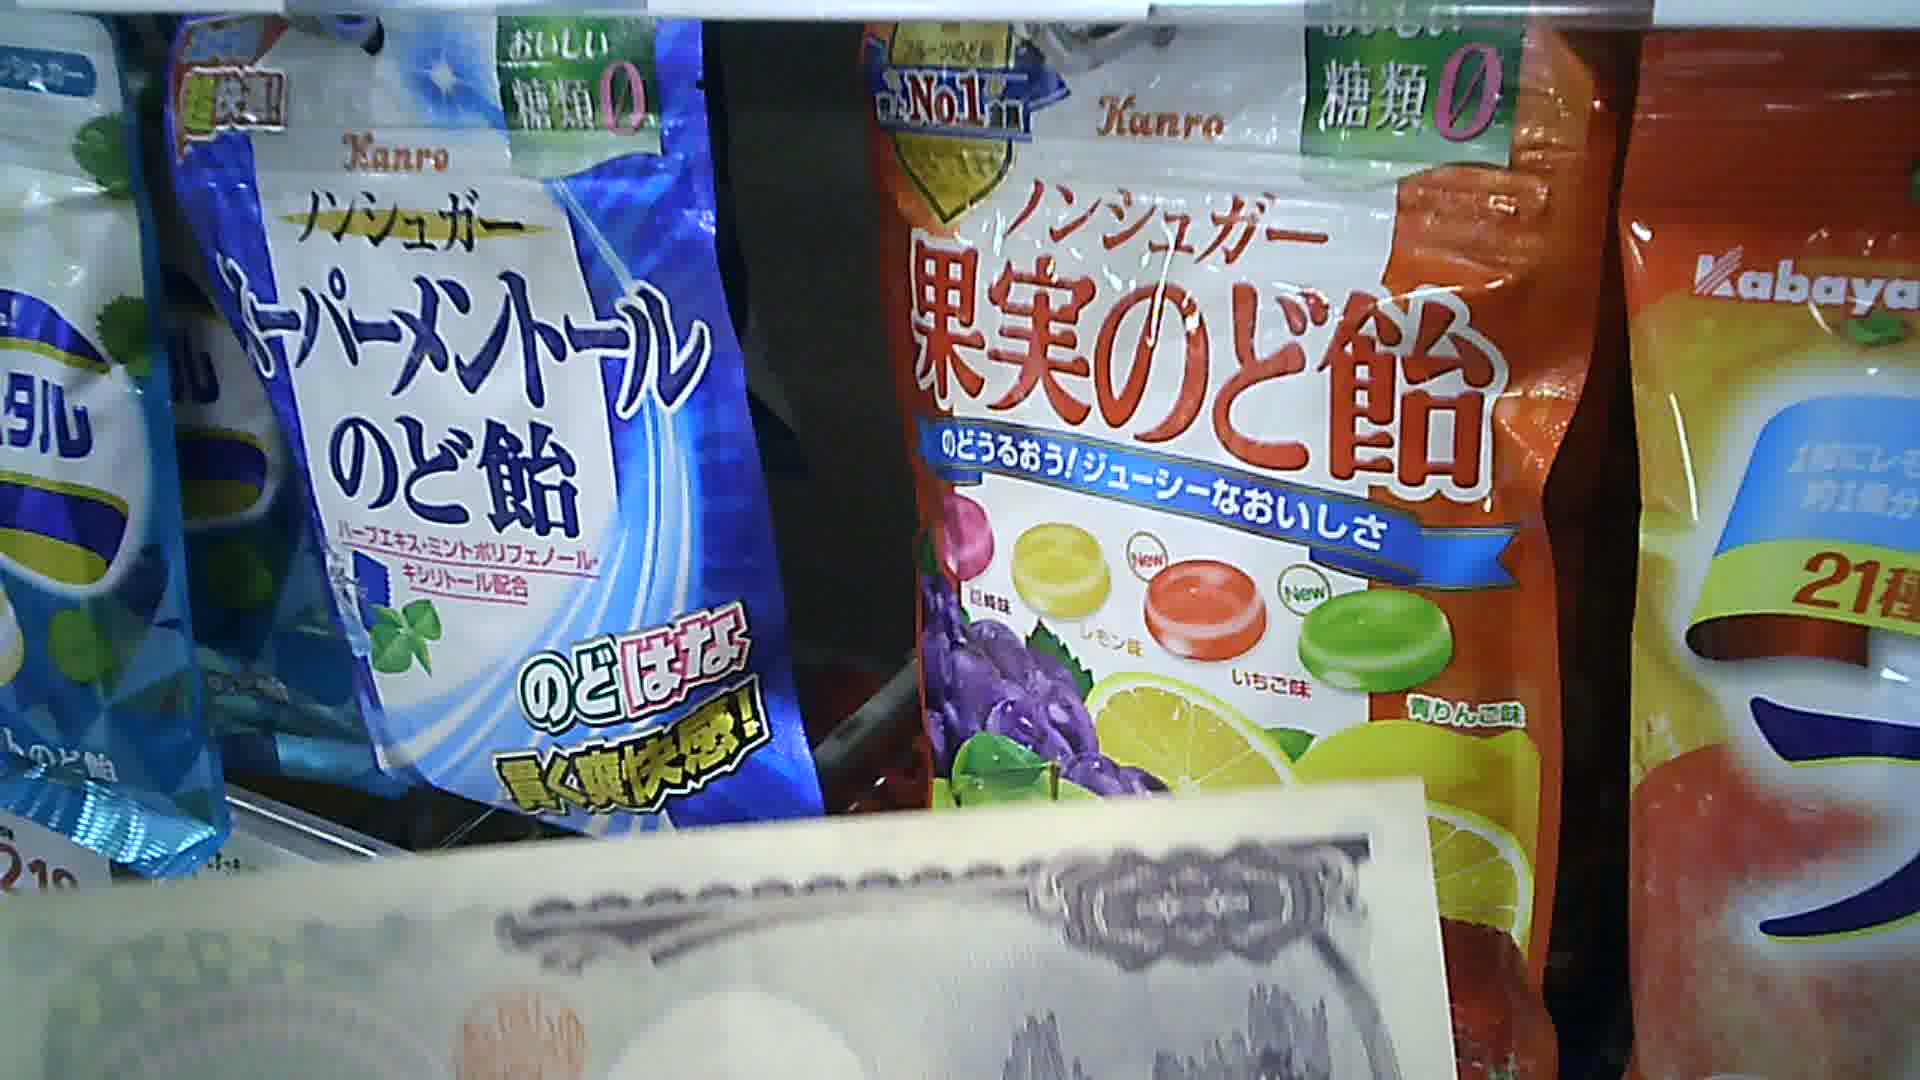5,000 Yen: (55, 771, 1480, 1063)
